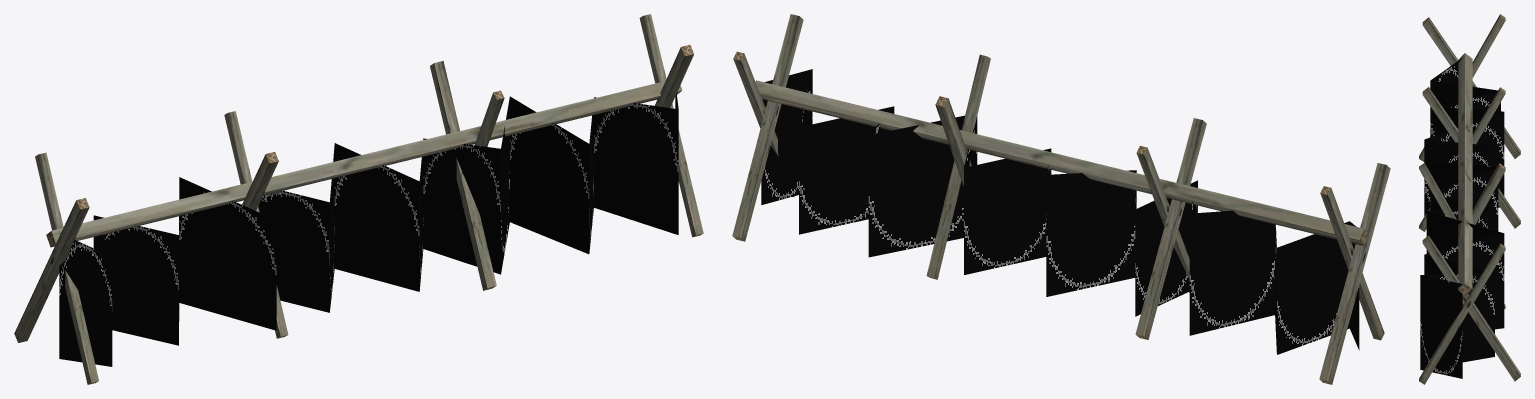
Rendered from BarbedWire_FenceEnd.glb.
3 renders of one model, left to right at view 1: azimuth 30°, elevation 25°; view 2: azimuth 150°, elevation 25°; view 3: azimuth 270°, elevation 25°, orthographic. The views are drawn at different scales.
Visible parts, largest first — view 1: BARBEDWIRE_FENCEEND; view 2: BARBEDWIRE_FENCEEND; view 3: BARBEDWIRE_FENCEEND.
Boxes of the visible parts, x1,y1,x2,y2 form: BARBEDWIRE_FENCEEND: [14, 14, 703, 384]; BARBEDWIRE_FENCEEND: [732, 14, 1390, 384]; BARBEDWIRE_FENCEEND: [1419, 14, 1520, 384].
Size of the model in its own units: 8 by 2.41 by 1.49.
2 materials, 2 textured.
